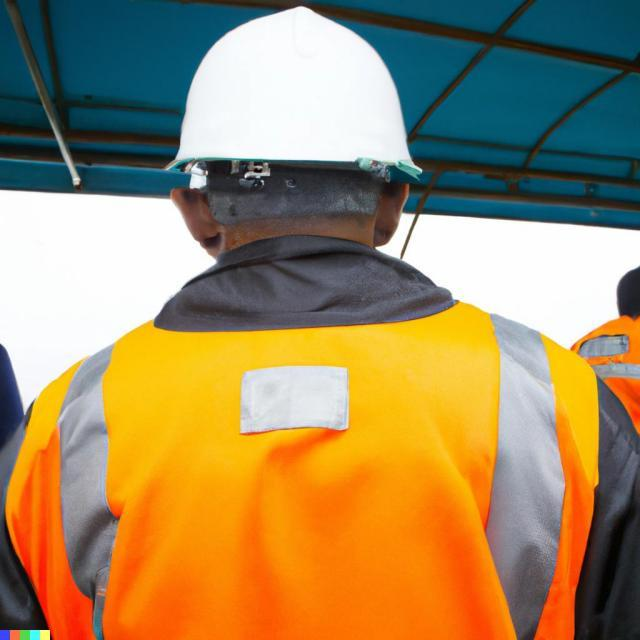reflective_jacket: (0, 255, 604, 635), (569, 296, 639, 639)
safety_helmet: (161, 8, 423, 183)
